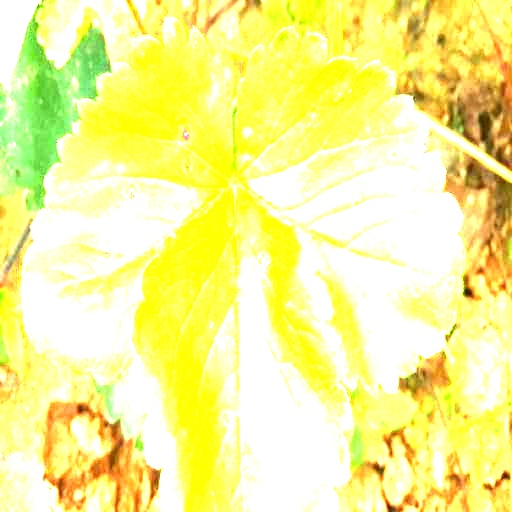Leaf Spot: (233, 26, 469, 397), (19, 15, 233, 387), (130, 179, 354, 511)
